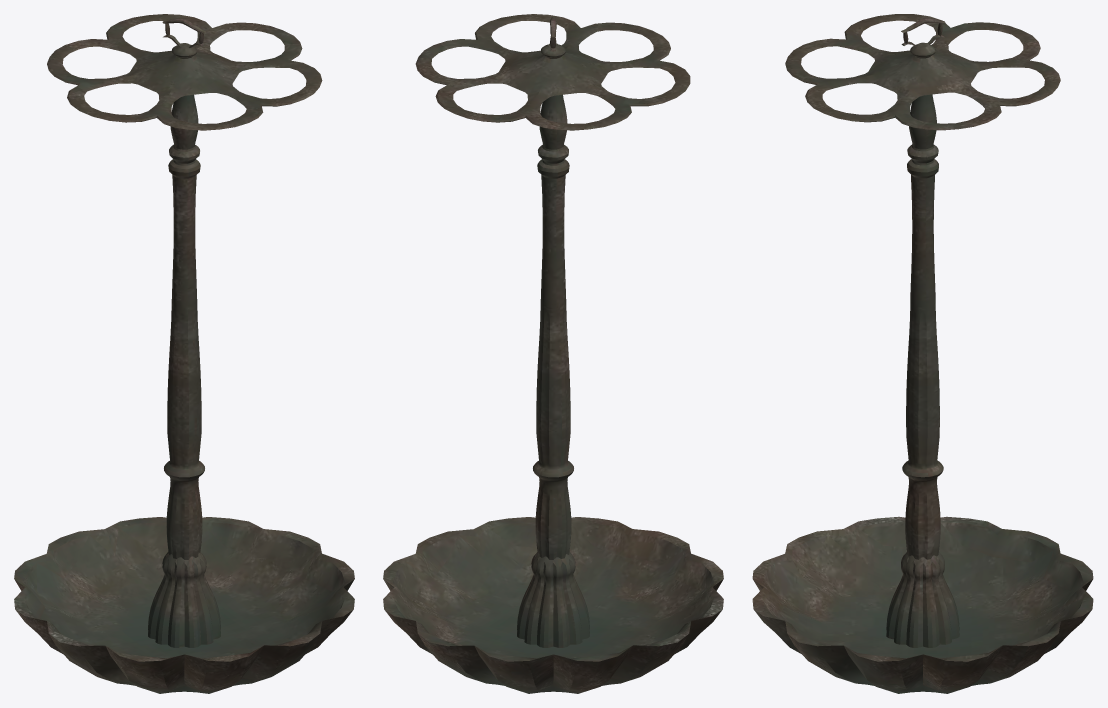
Rendered from victorian_umbrella_stand.glb.
3 views of the same model, side by side, from view 1: azimuth 30°, elevation 25°; view 2: azimuth 150°, elevation 25°; view 3: azimuth 270°, elevation 25° (orthographic).
Visible parts, largest first — view 1: UmbrellaStand; view 2: UmbrellaStand; view 3: UmbrellaStand.
Part boxes in pixels (<box>): UmbrellaStand: <box>14,14,354,693</box>; UmbrellaStand: <box>383,14,723,693</box>; UmbrellaStand: <box>752,14,1093,693</box>.
Size of the model in its own units: 0.6602 by 1.36 by 0.6602.
1 material, 1 textured.
